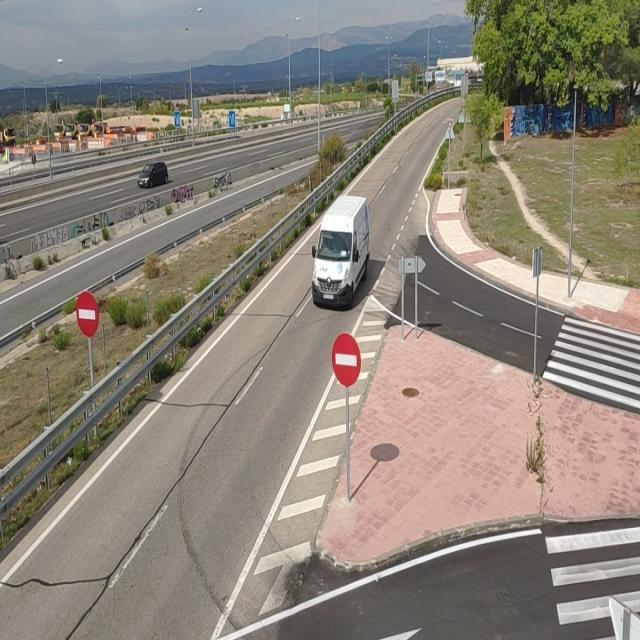Car: (137, 160, 169, 190)
Van: (310, 193, 373, 311)
